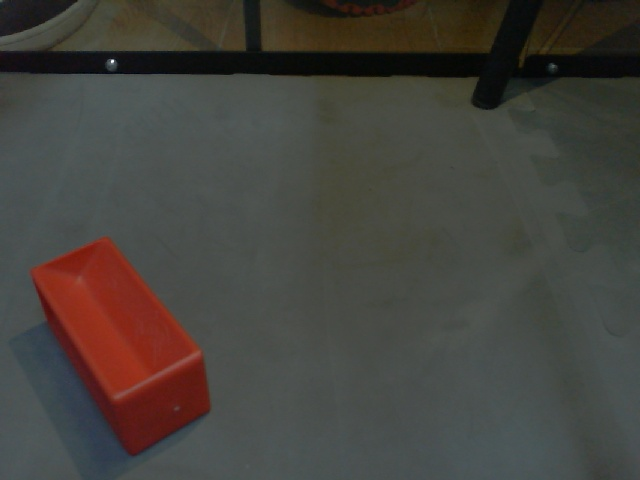RedSample: (29, 235, 213, 455)
